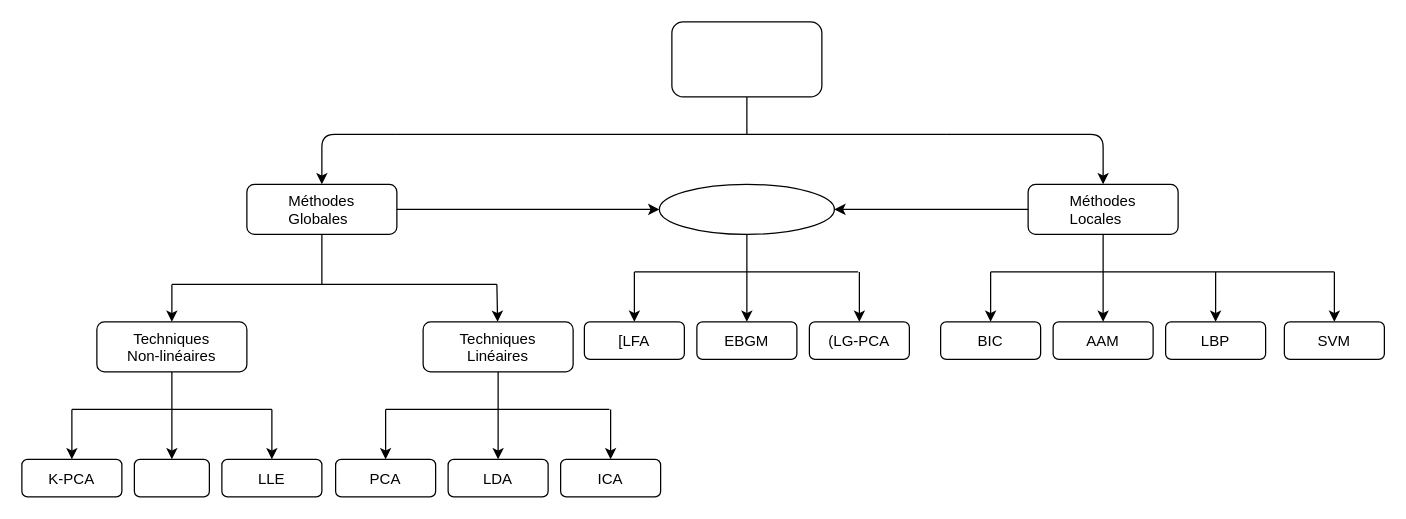
The diagram is 1406 pixels wide and 519 high, and some of its shapes have lost their labels. Here are the shapes that lost their labels. From the top down, the centre of each, then its label:
point 746,59: Reconnaissance Faciale
point 746,208: Méthodes Hybrides
point 171,477: K-LDA
